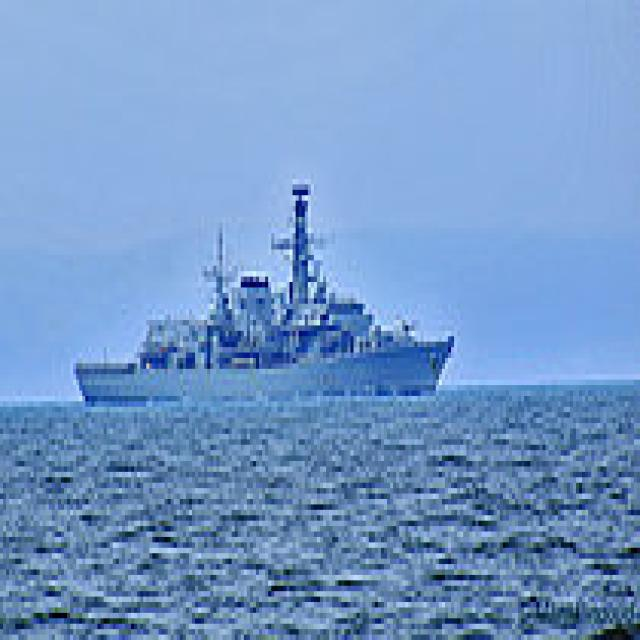Warship: (67, 168, 454, 407)
